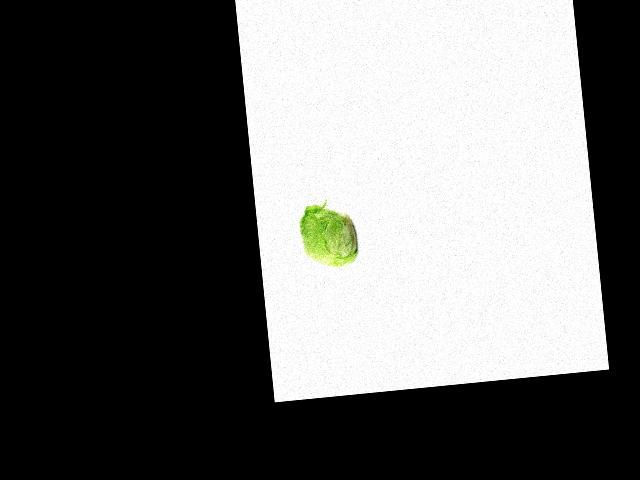lettuce: (295, 203, 362, 272)
